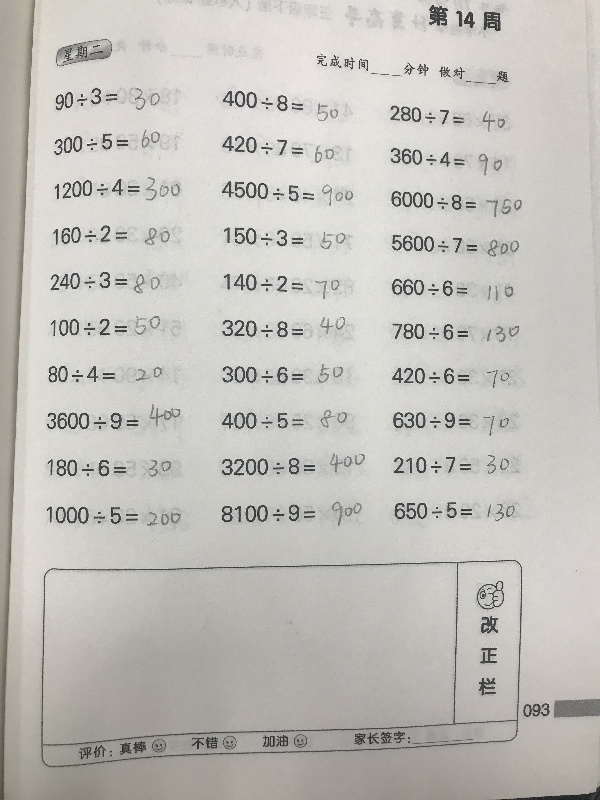equation: (390, 451, 523, 493), (44, 401, 185, 435), (218, 498, 366, 530), (219, 88, 340, 127), (217, 450, 368, 480), (42, 502, 186, 533), (387, 271, 516, 304), (51, 173, 184, 205), (218, 178, 356, 208), (388, 408, 521, 439), (218, 310, 349, 341), (386, 103, 509, 136), (46, 311, 179, 340), (44, 360, 177, 389), (50, 127, 180, 156), (386, 190, 525, 217), (217, 406, 350, 434), (219, 224, 349, 252), (390, 498, 522, 525), (387, 363, 517, 390), (43, 455, 177, 481), (386, 147, 506, 176), (219, 361, 347, 388), (220, 271, 343, 299), (49, 219, 172, 247), (46, 267, 163, 296), (52, 84, 165, 114), (388, 320, 523, 345), (387, 233, 522, 258), (218, 135, 342, 162)
